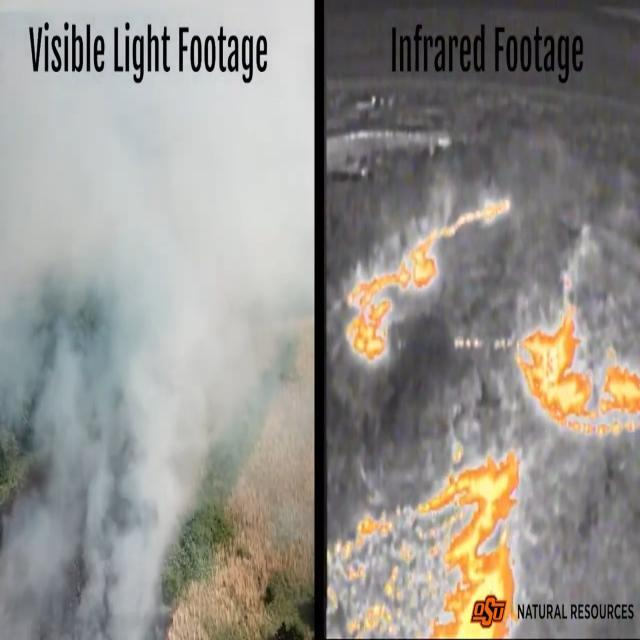fire: (329, 449, 524, 640), (515, 302, 640, 439), (410, 196, 513, 291), (346, 265, 413, 368)
